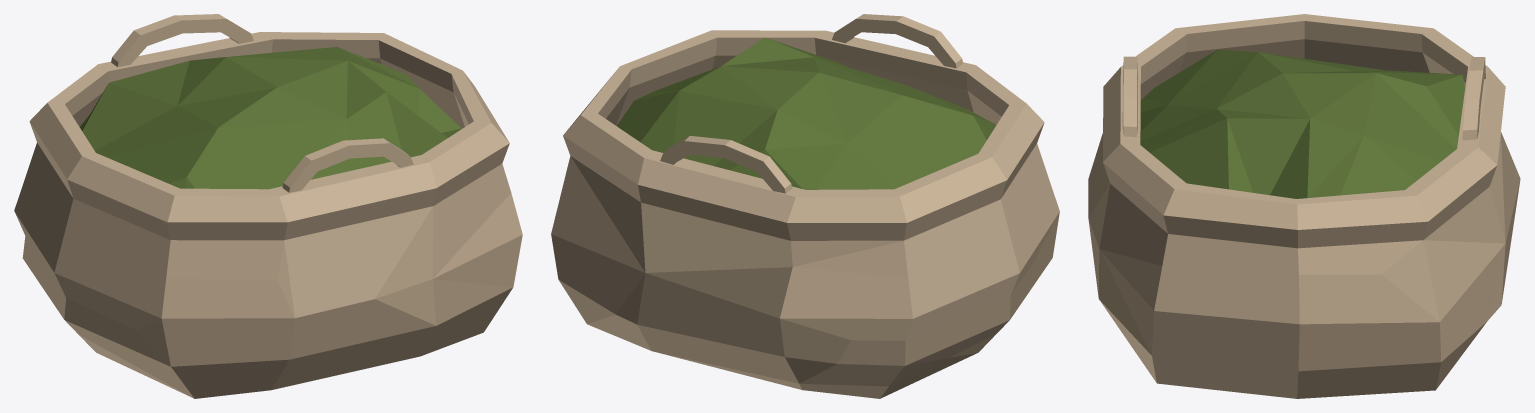
File: SM_Prop_Sack_04.fbx
3 views of the same model, side by side, from view 1: azimuth 30°, elevation 25°; view 2: azimuth 150°, elevation 25°; view 3: azimuth 270°, elevation 25° (orthographic).
Visible parts, largest first — view 1: SM_Prop_Sack_04, SM_Prop_Sack_Filling_04; view 2: SM_Prop_Sack_04, SM_Prop_Sack_Filling_04; view 3: SM_Prop_Sack_04, SM_Prop_Sack_Filling_04.
Part boxes in pixels (x1,y1,x2,y2): SM_Prop_Sack_04: (14, 14, 522, 398); SM_Prop_Sack_Filling_04: (79, 47, 461, 189); SM_Prop_Sack_04: (551, 14, 1059, 398); SM_Prop_Sack_Filling_04: (617, 37, 996, 189); SM_Prop_Sack_04: (1088, 14, 1520, 398); SM_Prop_Sack_Filling_04: (1140, 49, 1465, 198).
Bounding box in the file's own units: 78.7 × 41.92 × 68.38.
